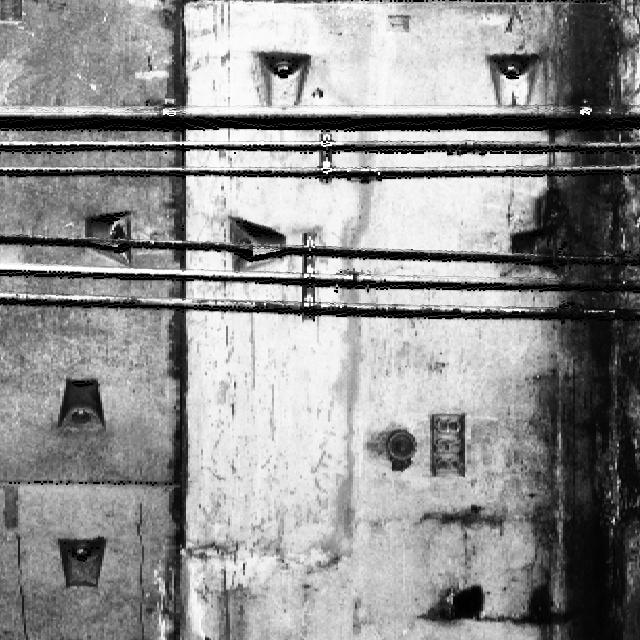leakage: (507, 2, 636, 637), (147, 0, 205, 639)
